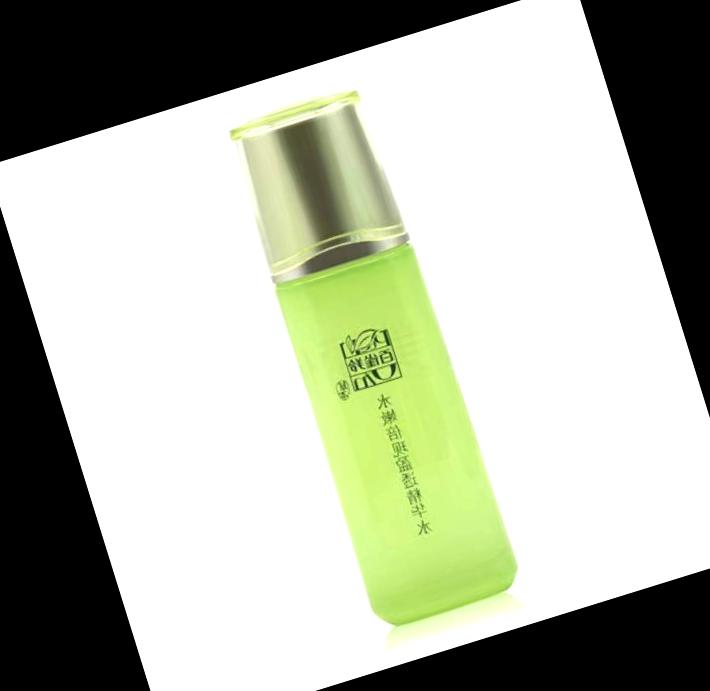cosmetic: (218, 82, 515, 620)
